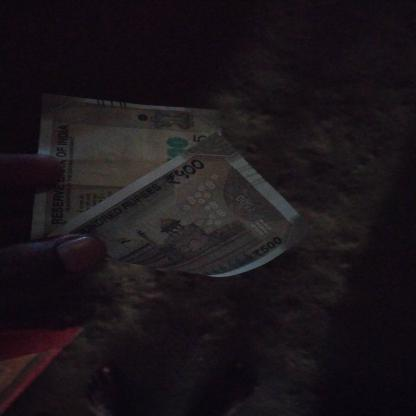New500Back: (80, 162, 302, 279)
